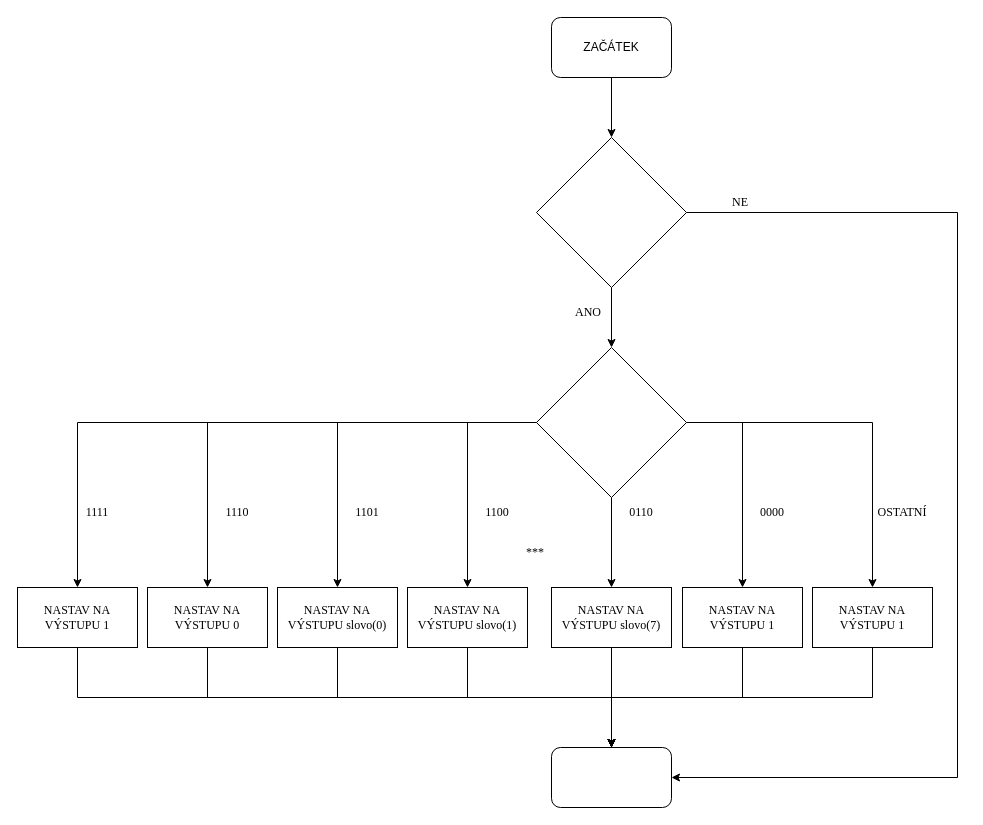
Some shapes in this 983 by 825 pixel diagram are drawn without their labels. Here are the shapes that lost their labels. From the top down, the box of each, then its label:
(536, 136, 686, 288): JE ČASOVACÍ SIGNÁL NA NÁSTUPNÍ HRANĚ
(536, 346, 686, 498): JAKOU HODNOTU MÁ sig_cnt_4bit_tx?
(550, 746, 672, 808): KONEC
